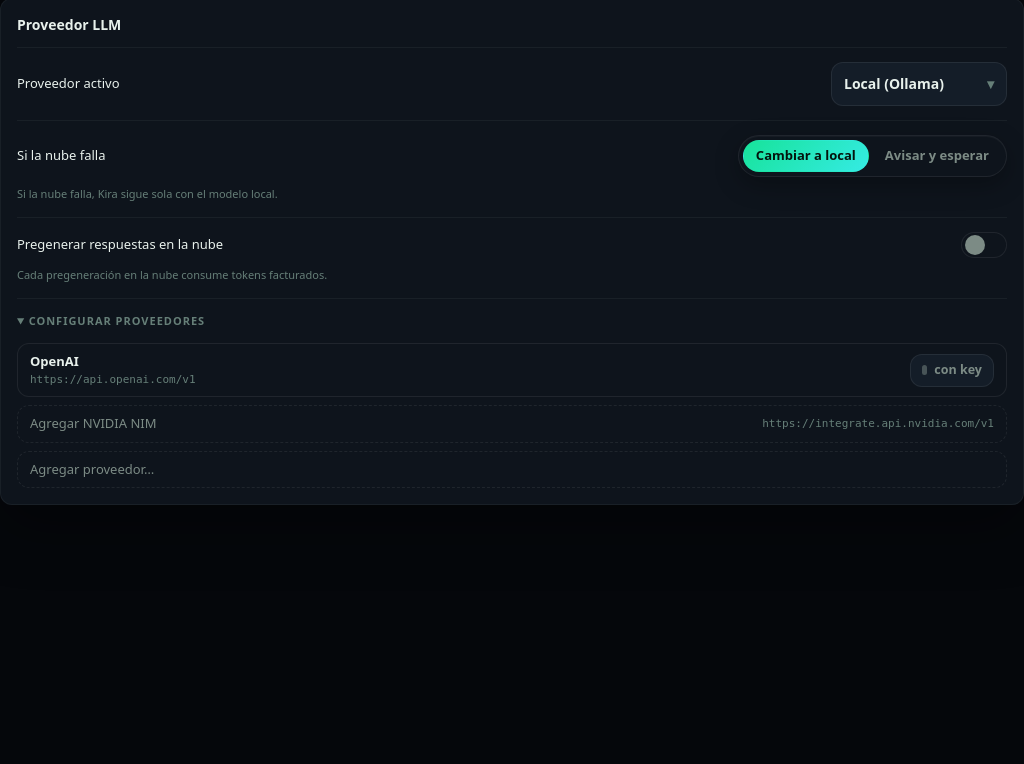
Test: ProviderCard custom-id validation (owner tried to add 'z-ai') › shows an UNMISSABLE reason next to the disabled Guardar and a clickable sanitized suggestion that unblocks it
Click the button "Agregar proveedor…".
click(92, 469)  # box [17, 451, 1007, 488]
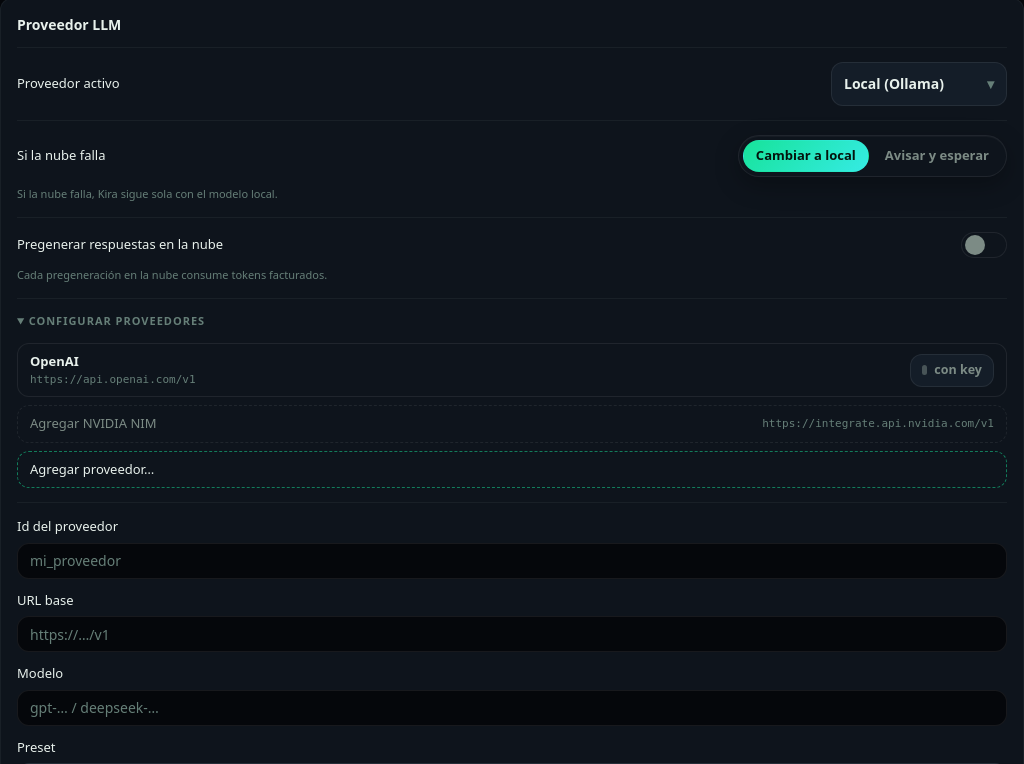
Type "z-ai" into the field labelled "Id del proveedor".
click(512, 561); type("z-ai")  # box [17, 543, 1007, 579]
(page scrolled)
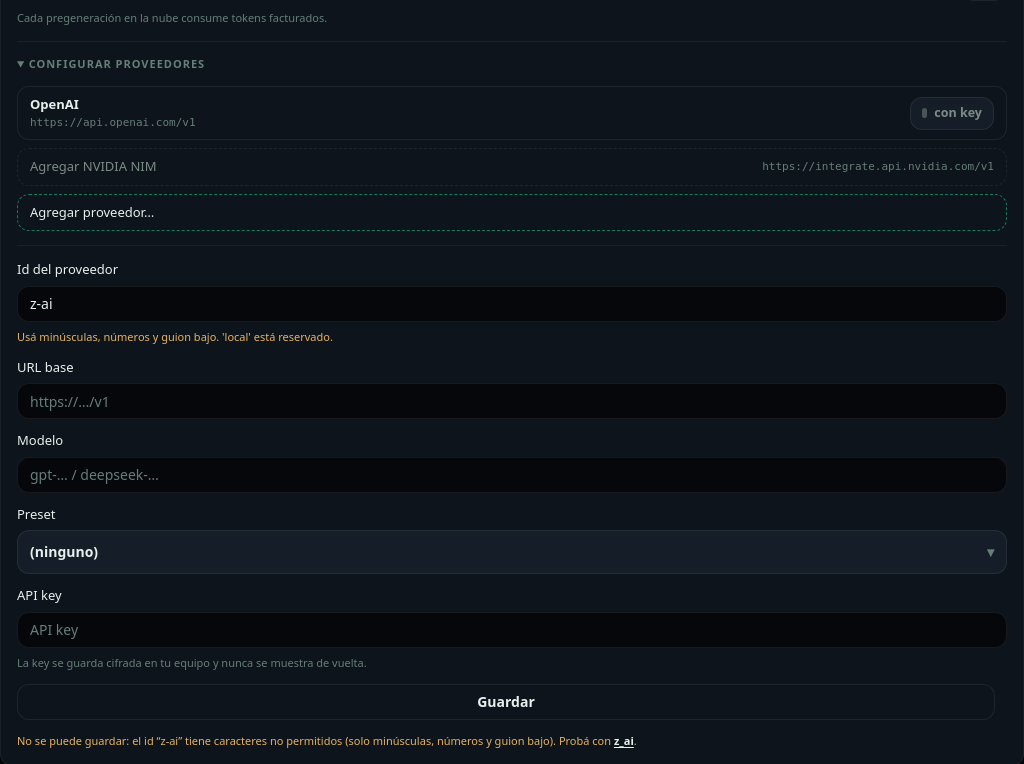
Result: the button "Guardar" is disabled at [17, 684, 995, 720]
Result: the button "z_ai" is shown
# Applying the suggestion fixes the id and enables Guardar.
Click the button "z_ai".
click(624, 740)  # box [614, 732, 634, 749]
(page scrolled)
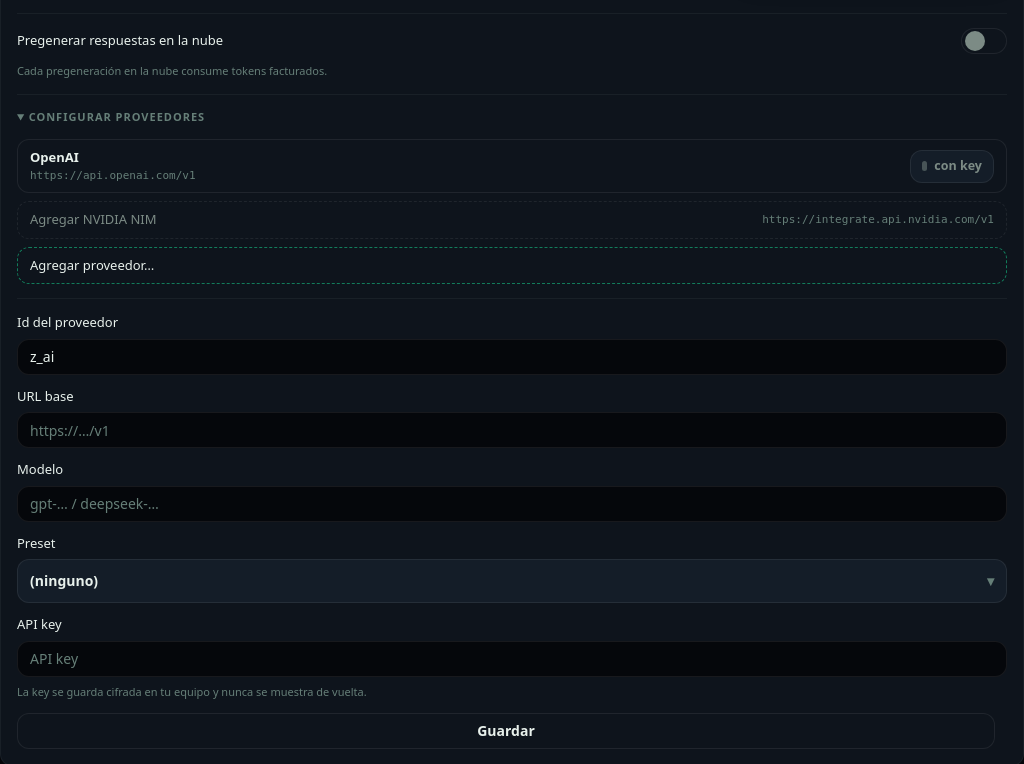
Result: the field labelled "Id del proveedor" holds "z_ai" at [17, 339, 1007, 375]
Result: the button "Guardar" is enabled at [17, 713, 995, 749]
